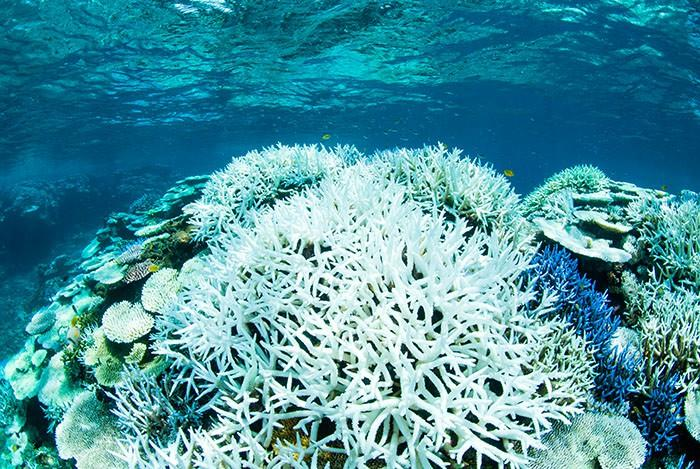bleached_corals: (109, 146, 594, 469), (0, 172, 225, 469), (525, 165, 700, 393), (425, 277, 585, 469), (511, 230, 666, 419), (174, 108, 365, 245), (257, 156, 431, 271), (394, 136, 535, 246), (442, 239, 532, 301), (668, 382, 682, 447)
